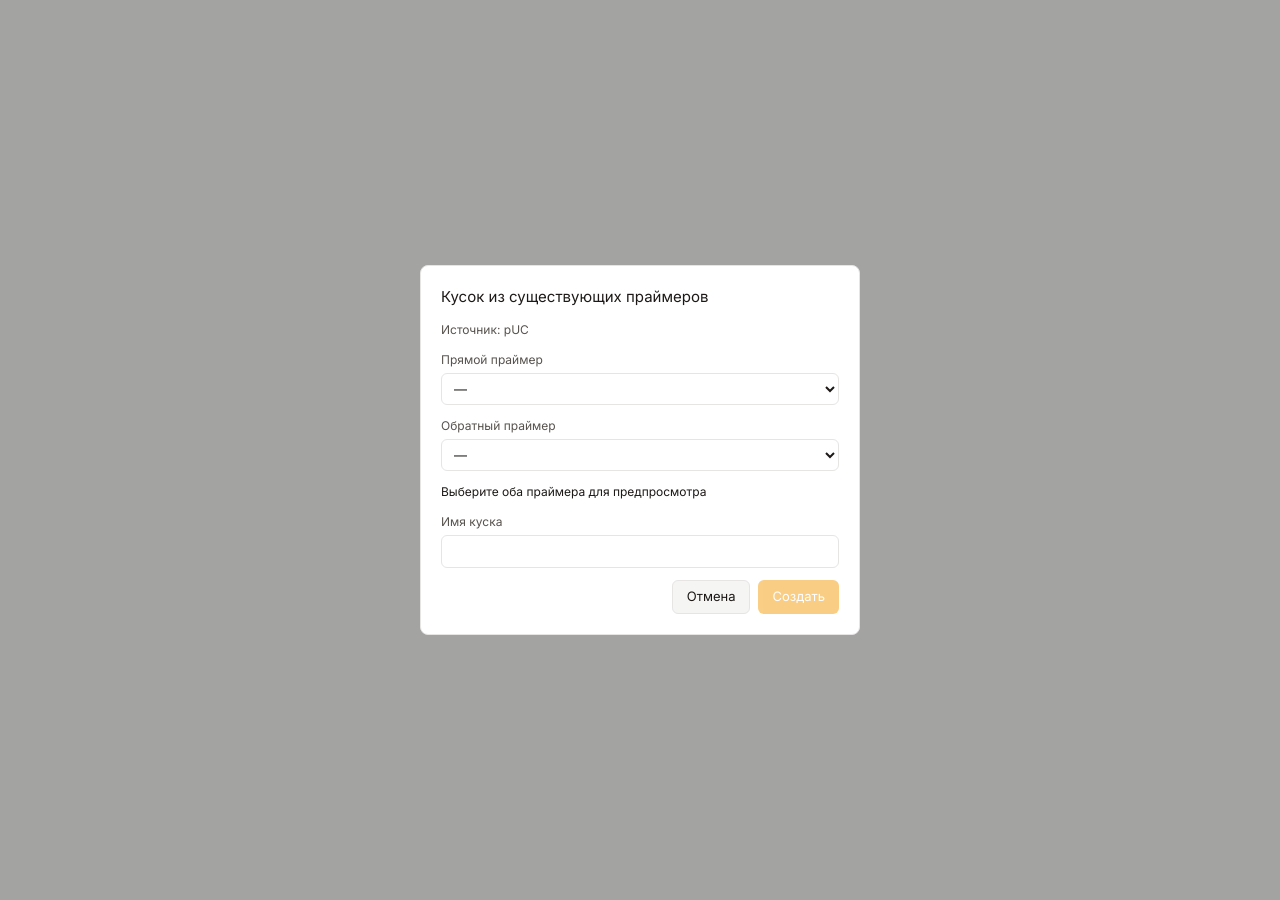
Scenario: T5 K6 PiecePrimersPickModal › binding not found → error + confirm stays disabled
Select "X" in the dropdown with test id "primer-pick-fwd" at (640, 389), box x1=441 y1=373 x2=839 y2=405
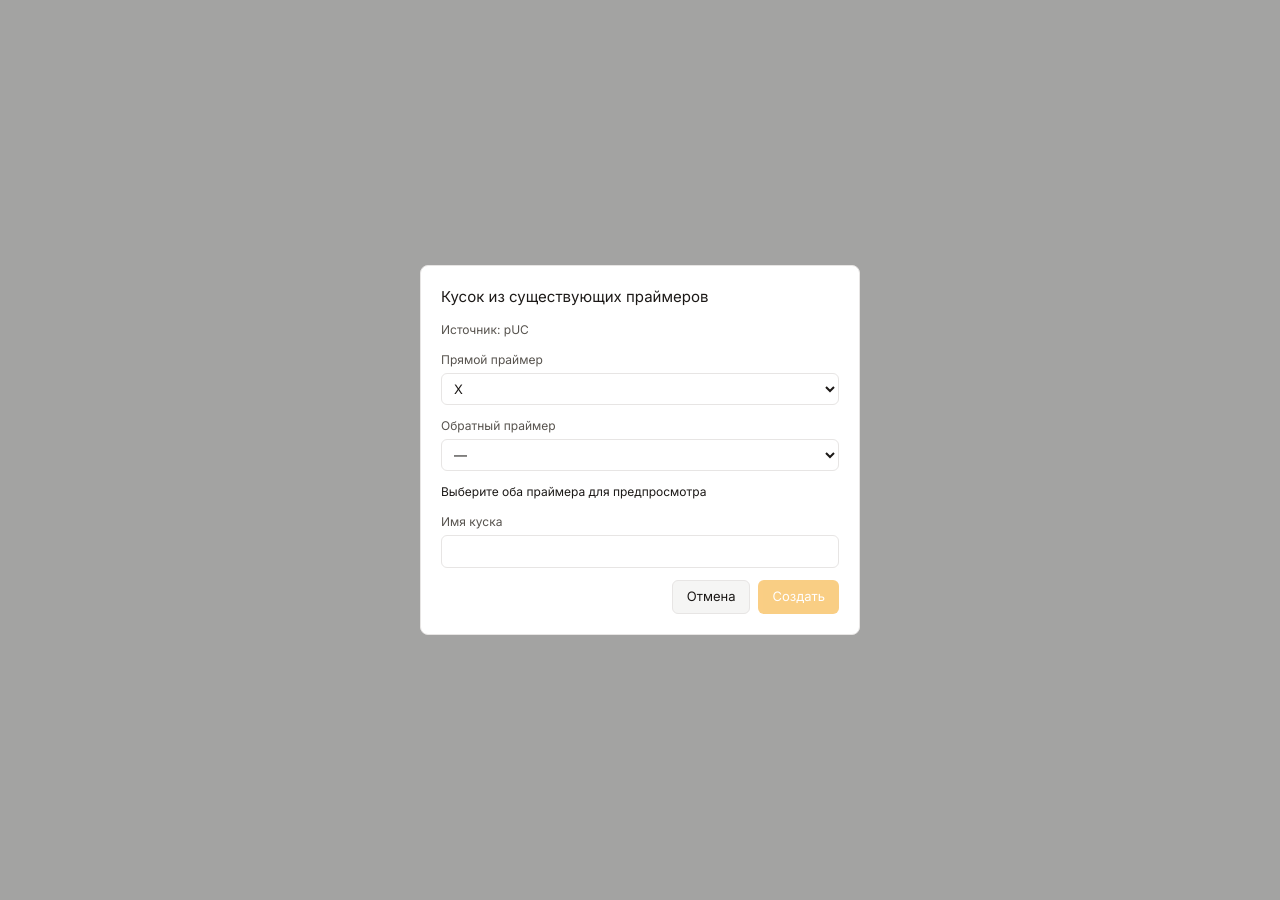
Select "R1" in the dropdown with test id "primer-pick-rev" at (640, 455), box x1=441 y1=439 x2=839 y2=471
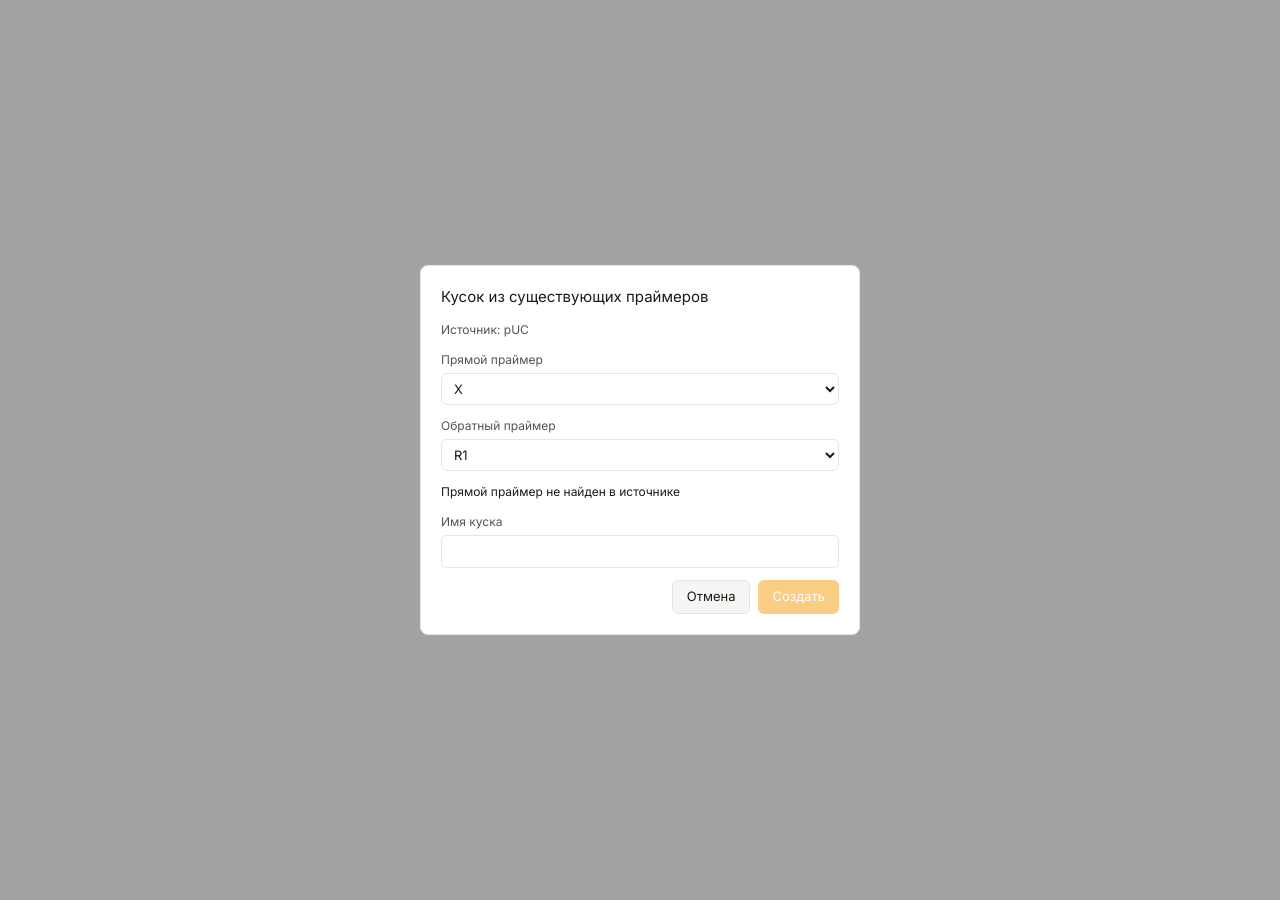
expect the button with test id "primers-pick-confirm" is disabled: met, box x1=758 y1=580 x2=839 y2=614
expect the text with test id "primers-pick-status" shows "не найден": met, box x1=441 y1=484 x2=680 y2=499
